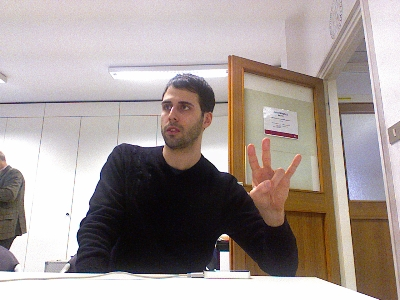观音: (246, 137, 302, 214)
